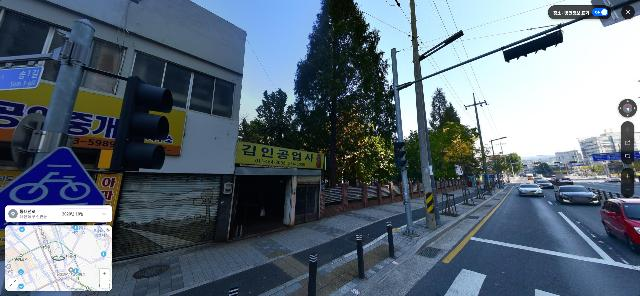ginkgo: (439, 121, 487, 199)
other: (292, 0, 398, 186), (427, 88, 468, 189), (241, 88, 294, 147)
